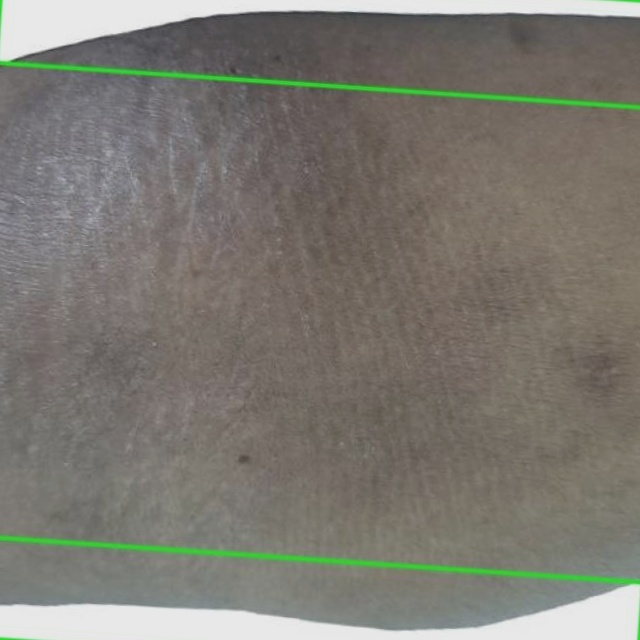Contact Dermatitis: (0, 0, 639, 107), (0, 538, 639, 639)
